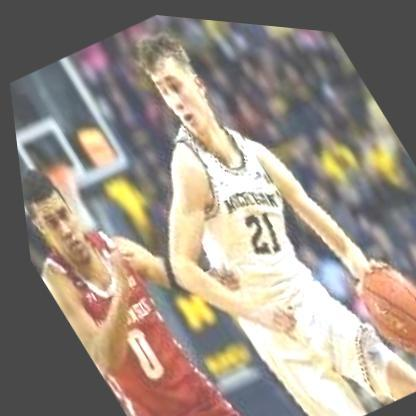basketball: (332, 240, 416, 366)
